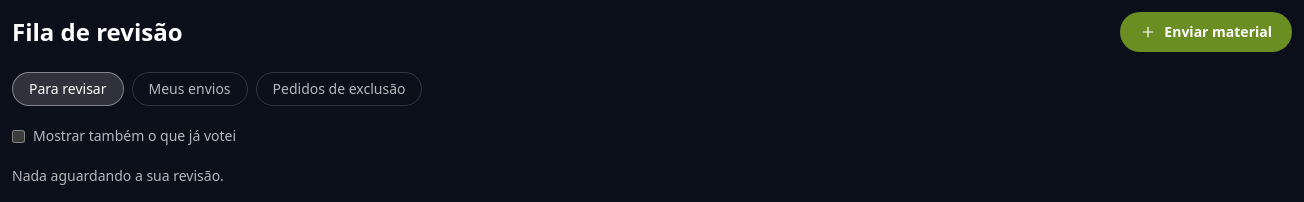
Test: ReviewQueuePage — curador › nada para revisar mostra a mensagem da seção
Check: the text "Nada aguardando a sua revisão." is shown, box [12,166,224,185]
Click the tab "Pedidos de exclusão".
click(339, 89)  # box [256,72,422,106]
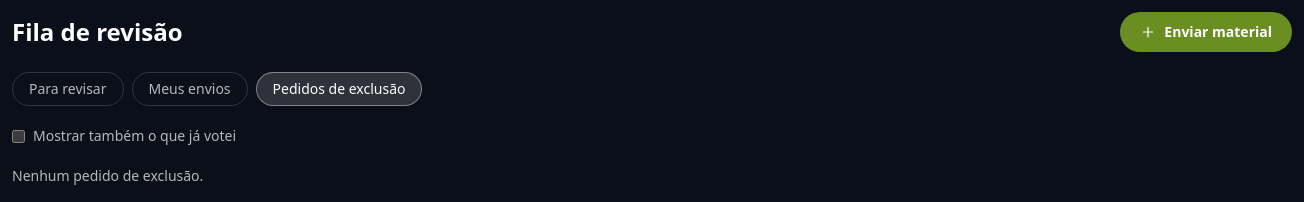
Check: the text "Nenhum pedido de exclusão." is shown, box [12,166,203,185]
